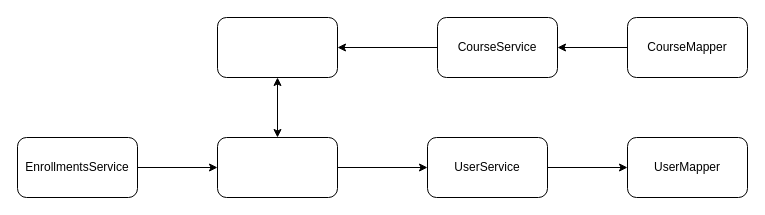
Some shapes in this 765 by 215 pixel diagram are drawn without their labels. Each missing label, with the box of its shape:
Database: (216, 16, 338, 78)
EnrollmentsMapper: (216, 136, 338, 198)
